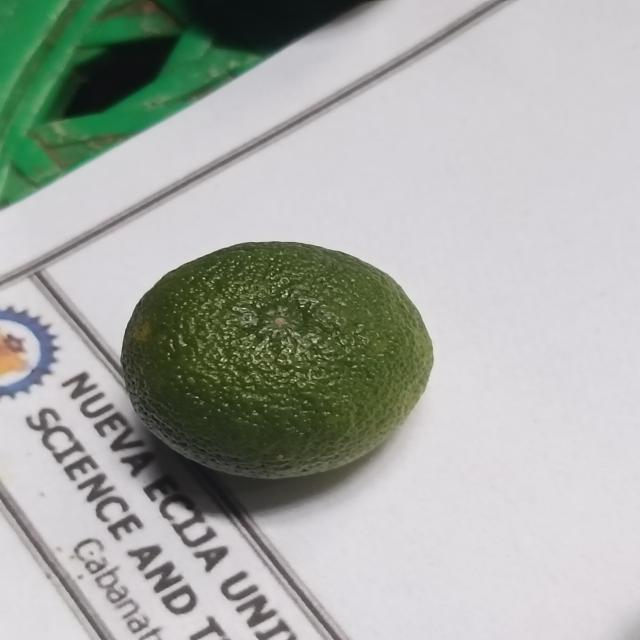heathy: (115, 239, 443, 486)
